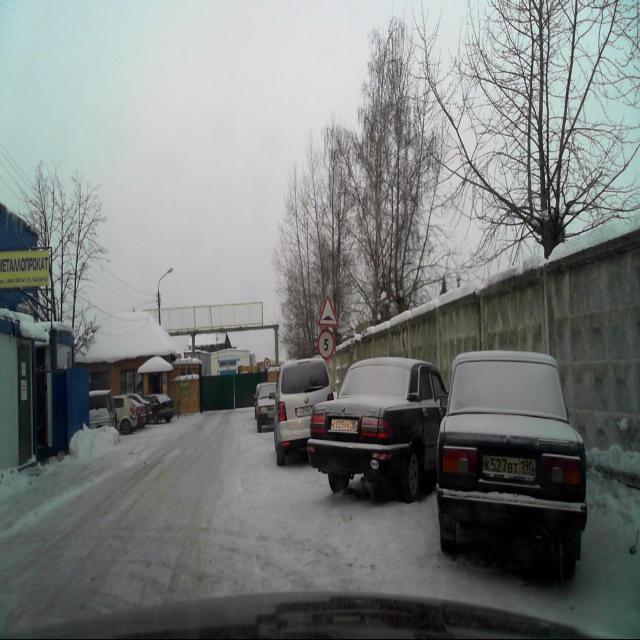road sign: (318, 296, 338, 327)
